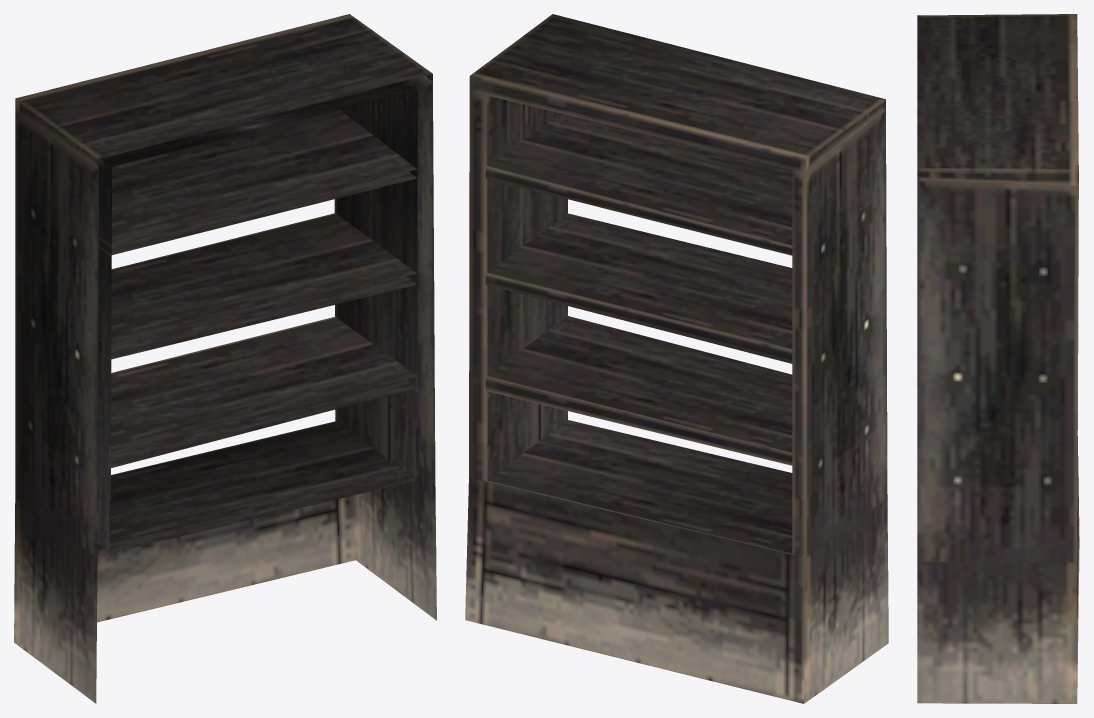
Rendered from OZ_20_wv_Bshell02B.glb.
The picture shows the model from 3 angles, left to right: view 1: azimuth 30°, elevation 25°; view 2: azimuth 150°, elevation 25°; view 3: azimuth 270°, elevation 25°; orthographic projection. The views are drawn at different scales.
Visible parts, largest first — view 1: OM_20_wv_Bshell02B; view 2: OM_20_wv_Bshell02B; view 3: OM_20_wv_Bshell02B.
Part boxes in pixels (<box>): OM_20_wv_Bshell02B: <box>14,14,436,703</box>; OM_20_wv_Bshell02B: <box>465,14,888,703</box>; OM_20_wv_Bshell02B: <box>917,14,1079,703</box>.
Bounding box in the file's own units: 1.54 × 2.36 × 0.653.
Materials: 1 (1 with a texture image).
